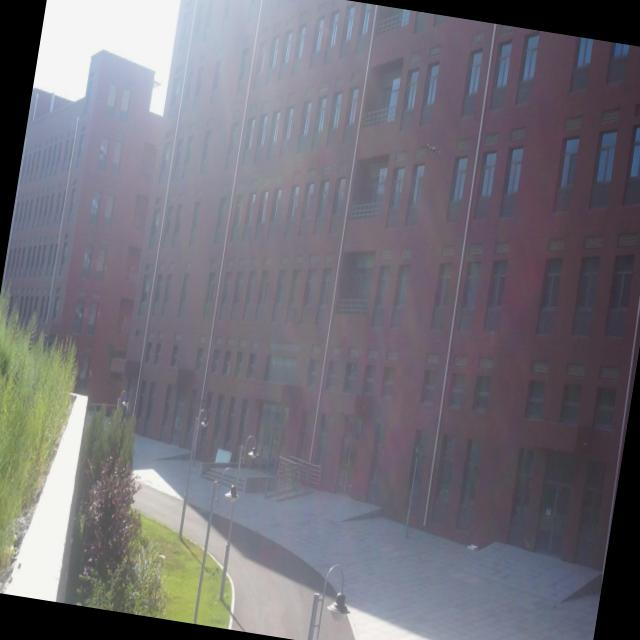drone: (422, 139, 444, 162)
